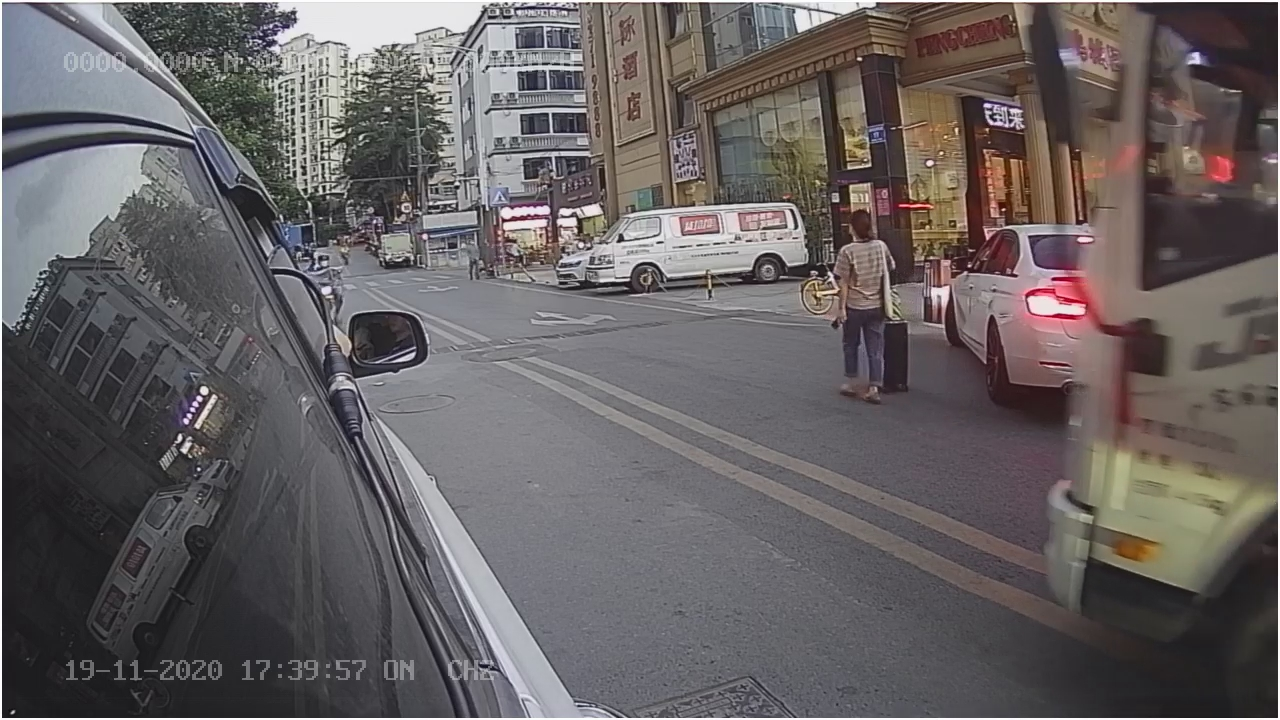person: (826, 210, 902, 409)
